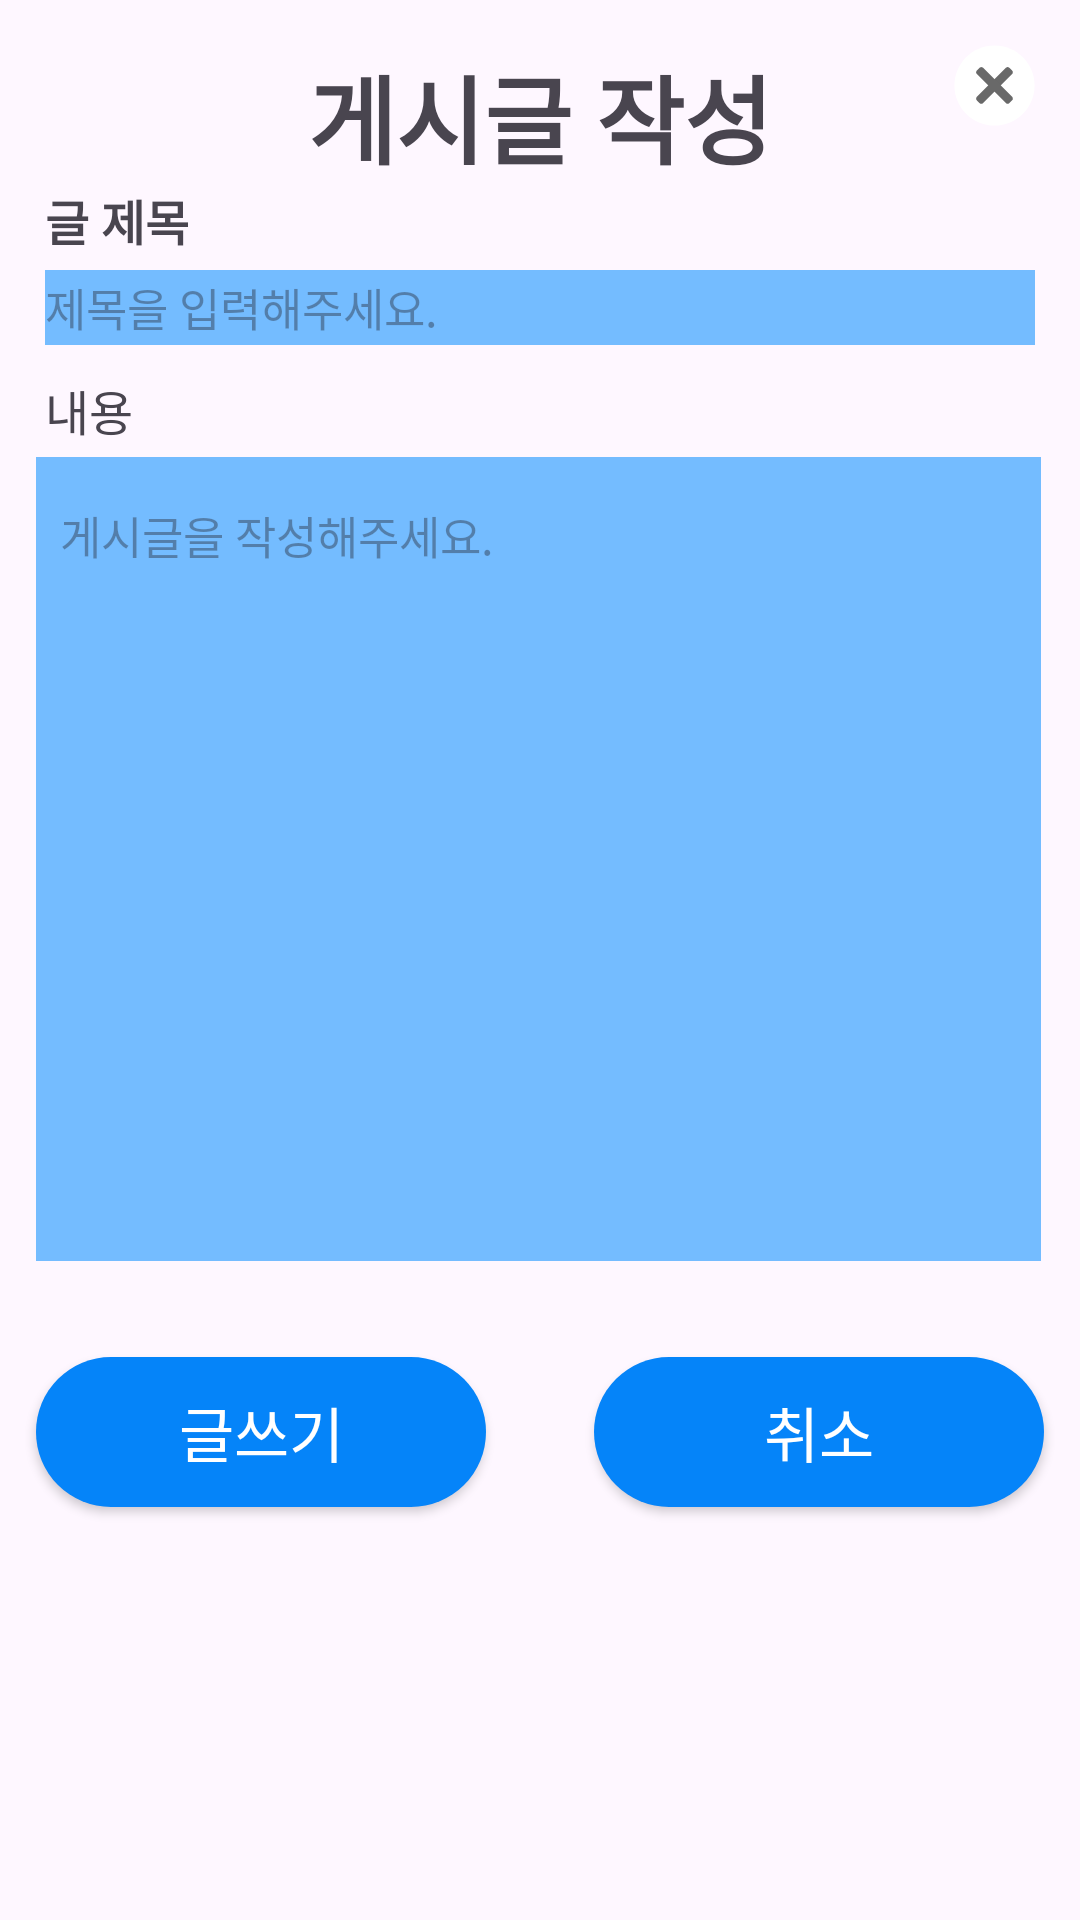

Locate icon controls on the screen. Image size 1080px x 1920px, boxes as region(x1, y1, x2, y2).
close: region(976, 67, 1013, 104)
